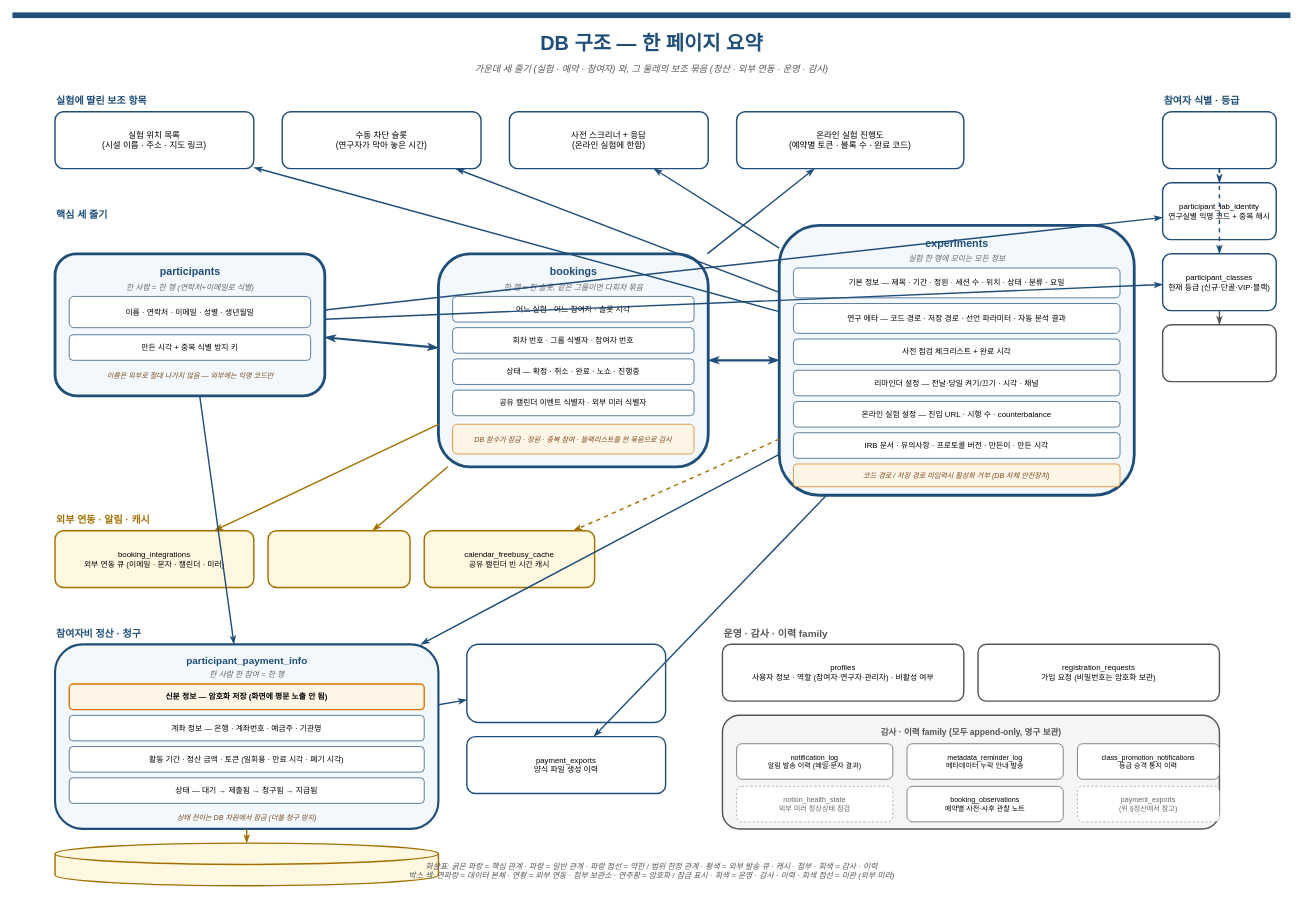
This 1302x898 diagram has some shape labels left out. The box of each missing label's shape, as (x1, y1, x2, y2) in pixels:
labs 연구실 · 익명 코드 비밀값: (1162, 111, 1277, 169)
participant_class_audit 등급 변경 이력 (영구 기록): (1162, 324, 1277, 382)
payment_claims 청구 묶음 (누가 · 어느 실험 · 누구·얼마 · 발송 시각): (466, 643, 666, 723)
reminders 리마인더 일정 행: (267, 530, 410, 588)
첨부 보관소 — 서명 + 통장 사본 (정산 행은 경로만 보관, 파일은 비공개 보관소에): (54, 842, 439, 886)
